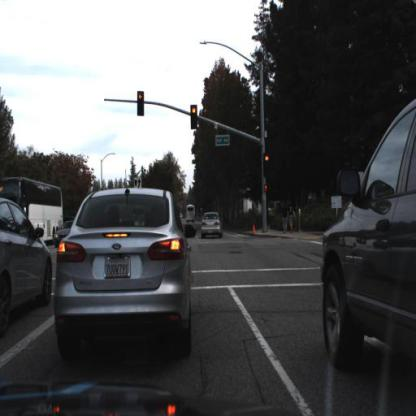car: (317, 97, 416, 378), (58, 185, 196, 362), (1, 195, 56, 336), (203, 209, 224, 243), (55, 221, 79, 248), (203, 210, 224, 239)
pedestrian: (288, 198, 297, 235), (282, 202, 289, 237)
trafficLight-Red: (190, 103, 200, 132), (263, 153, 273, 180)
trafficLight-RedLeft: (137, 90, 147, 121)
truck: (2, 180, 63, 240), (186, 202, 196, 228)
